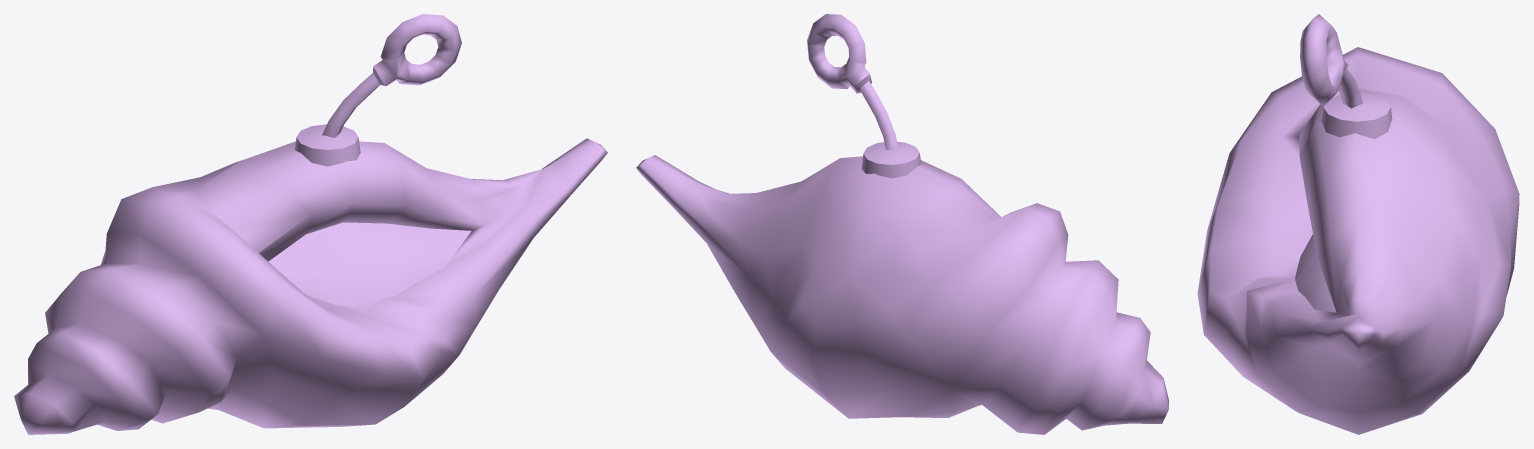
The picture shows the model from 3 angles, left to right: view 1: azimuth 30°, elevation 25°; view 2: azimuth 150°, elevation 25°; view 3: azimuth 270°, elevation 25°; orthographic projection. The views are drawn at different scales.
Parts seen in each view (by area): view 1: MM; view 2: MM; view 3: MM.
Part boxes in pixels (left/top/right/bottom): MM: left=14, top=14, right=607, bottom=434; MM: left=636, top=14, right=1168, bottom=434; MM: left=1197, top=14, right=1519, bottom=434.
Size of the model in its own units: 330 by 224 by 146.
